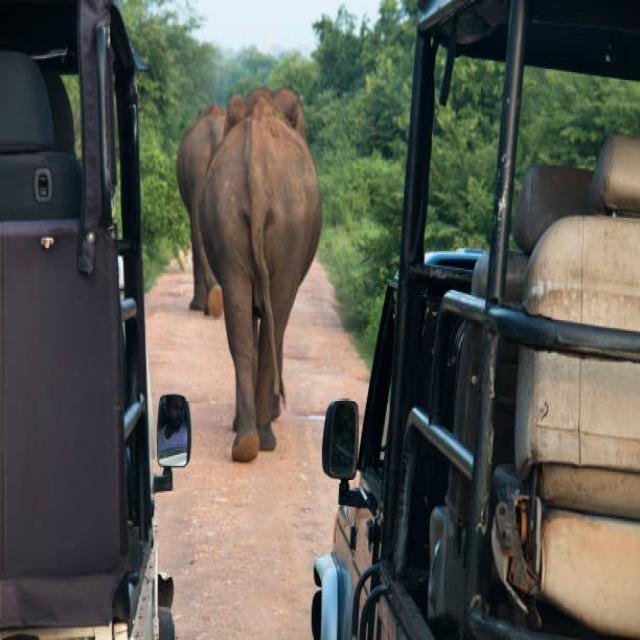Elephant: (202, 84, 316, 460)
